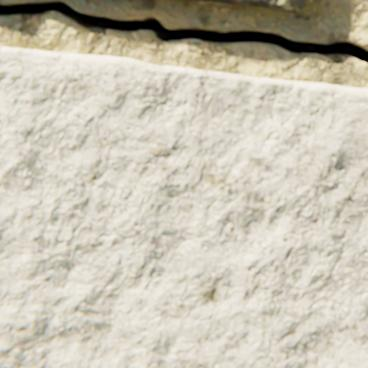brick: (0, 47, 367, 367), (195, 0, 304, 11)
crack: (0, 0, 367, 64)
